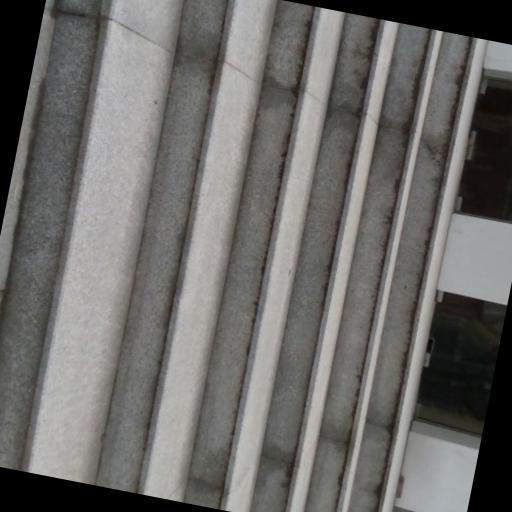stairs: (0, 0, 482, 511)
